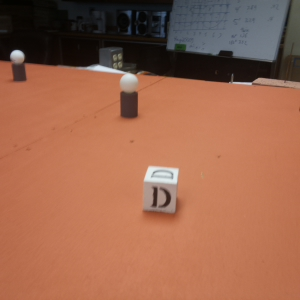blockD: (139, 164, 182, 212)
obstacle: (118, 72, 140, 116), (11, 49, 25, 81)
